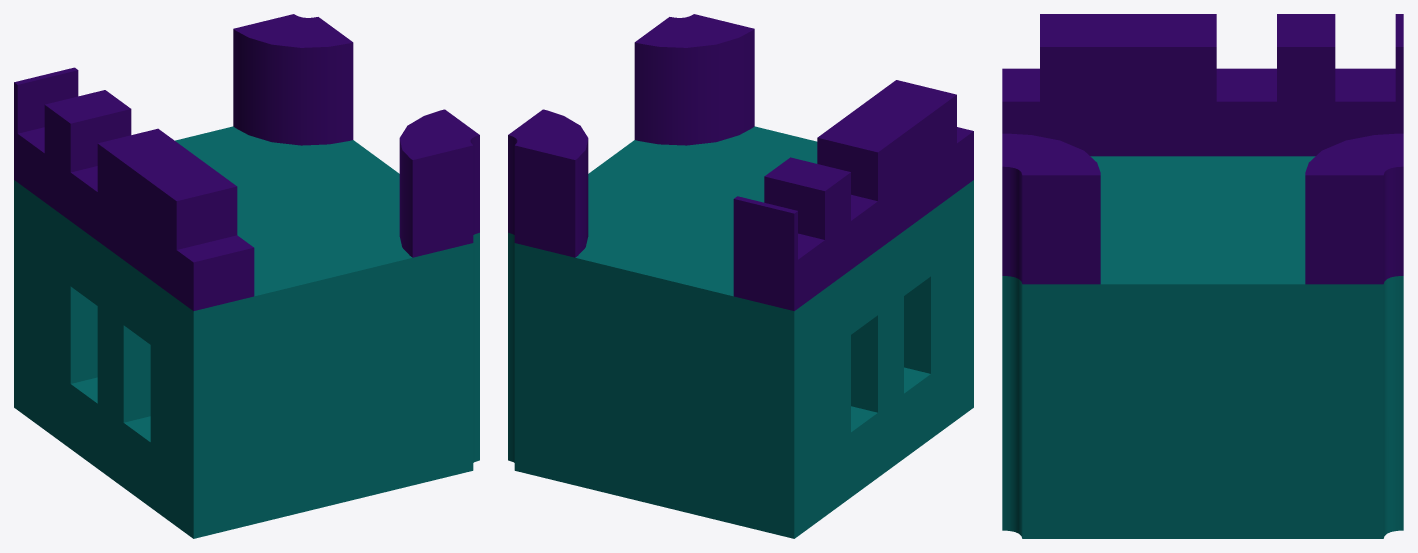
The model's file is Roof_04_C_B.fbx.
The picture shows the model from 3 angles, left to right: view 1: azimuth 30°, elevation 25°; view 2: azimuth 150°, elevation 25°; view 3: azimuth 270°, elevation 25°; orthographic projection. The views are drawn at different scales.
Visible parts, largest first — view 1: 3, 1, 4, 2; view 2: 4, 2, 3, 1; view 3: 1, 2, 3, 4.
Part boxes in pixels (x1,y1,x2,y2): 3: (103, 133, 341, 538); 1: (252, 109, 479, 502); 4: (14, 67, 250, 472); 2: (175, 14, 398, 209); 4: (646, 133, 884, 538); 2: (508, 109, 733, 502); 3: (751, 80, 973, 472); 1: (589, 14, 817, 208); 1: (1002, 133, 1202, 538); 2: (1203, 133, 1403, 538); 3: (1002, 14, 1202, 203); 4: (1203, 14, 1403, 203).
Bounding box in the file's own units: 190 × 200 × 200.
